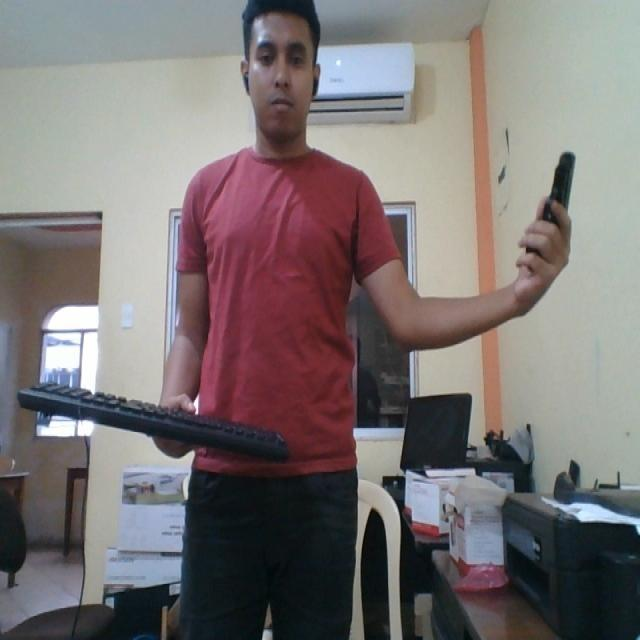weapon: (520, 145, 578, 270)
